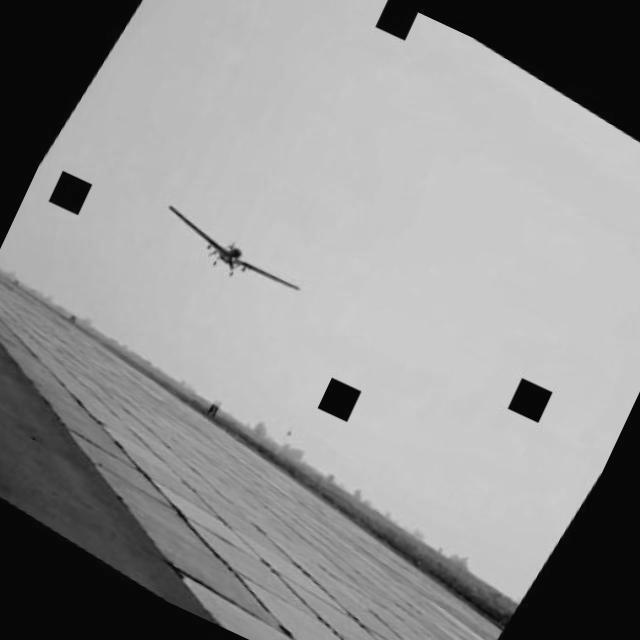aeroplane: (148, 196, 316, 308)
